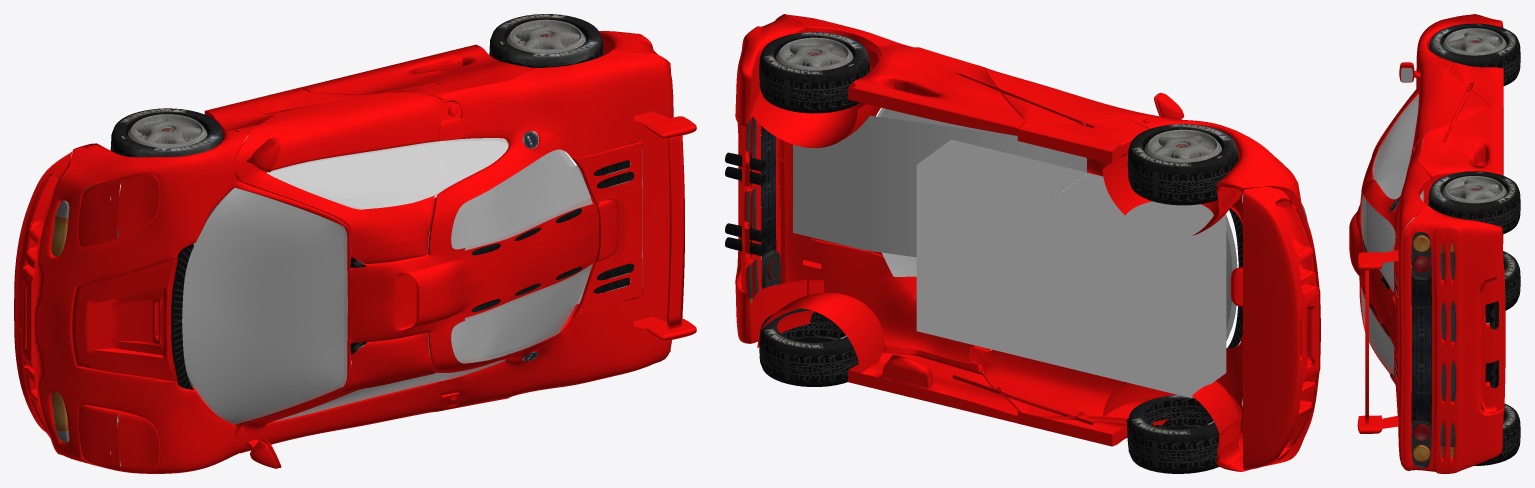
Rendered from SportsCar.gltf.
3 renders of one model, left to right at view 1: azimuth 30°, elevation 25°; view 2: azimuth 150°, elevation 25°; view 3: azimuth 270°, elevation 25°, orthographic. The views are drawn at different scales.
Visible parts, largest first — view 1: node-0; view 2: node-0; view 3: node-0.
Boxes of the visible parts, box(x1,y1,x2,y2) form: node-0: box(14, 14, 696, 473); node-0: box(725, 14, 1320, 473); node-0: box(1349, 14, 1520, 473).
Size of the model in its own units: 138 by 71.41 by 41.98.
Materials: 7 (3 with a texture image).
